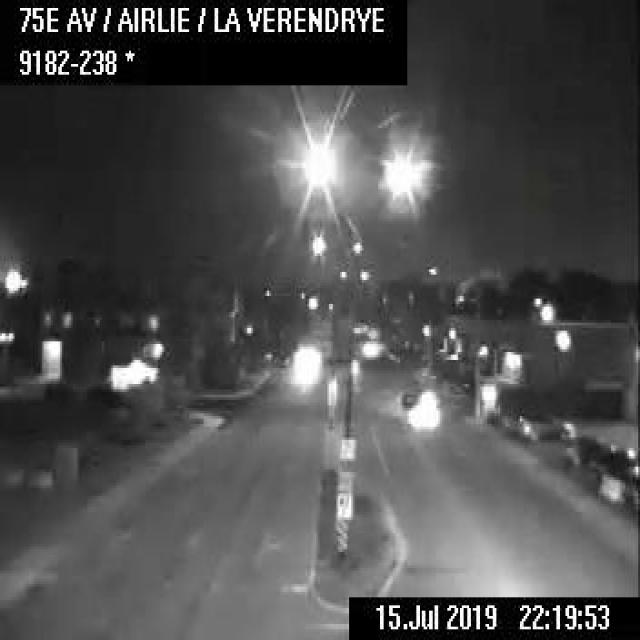vehicle: (516, 408, 572, 444)
